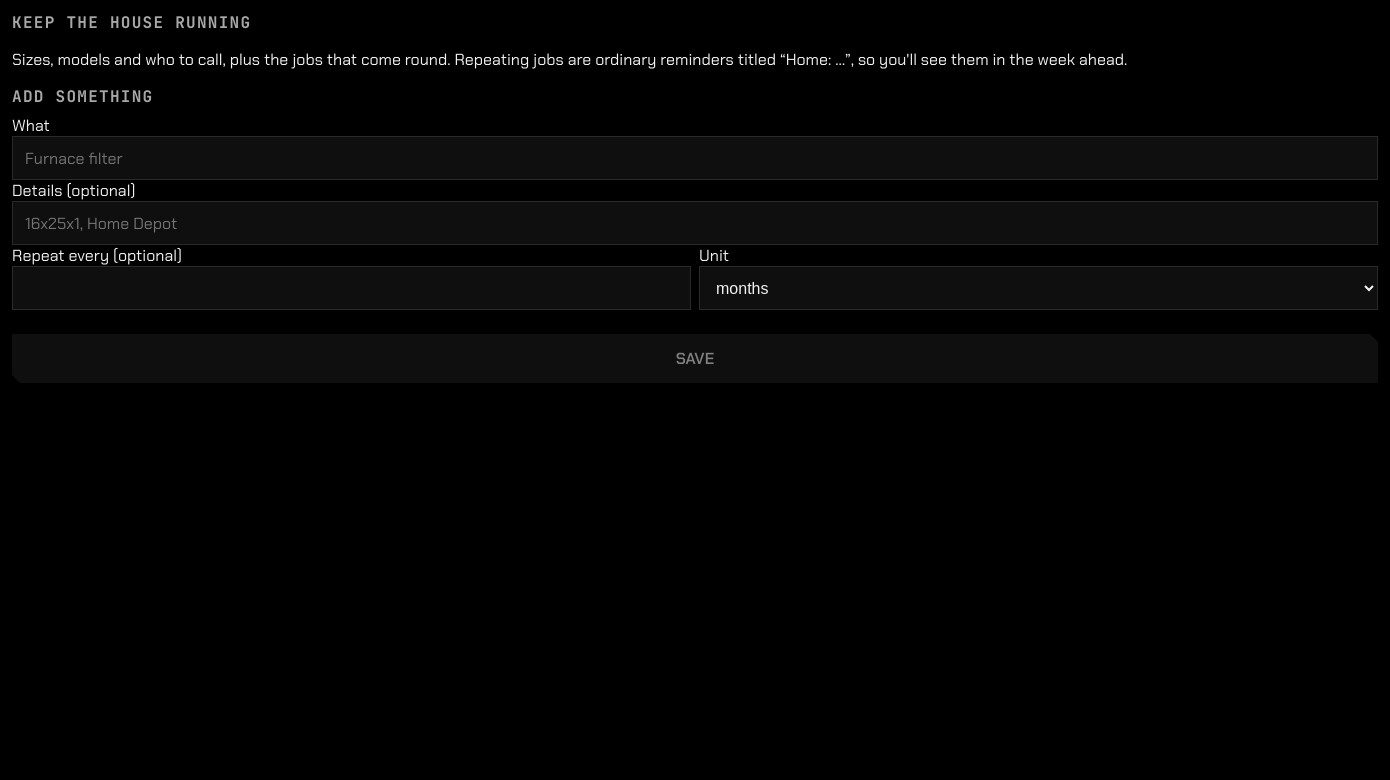
Test: keeps a plain fact without a repeat
Type "Plumber" into the field labelled "What" at (695, 158), box top-left (12, 136), bottom-right (1378, 180)
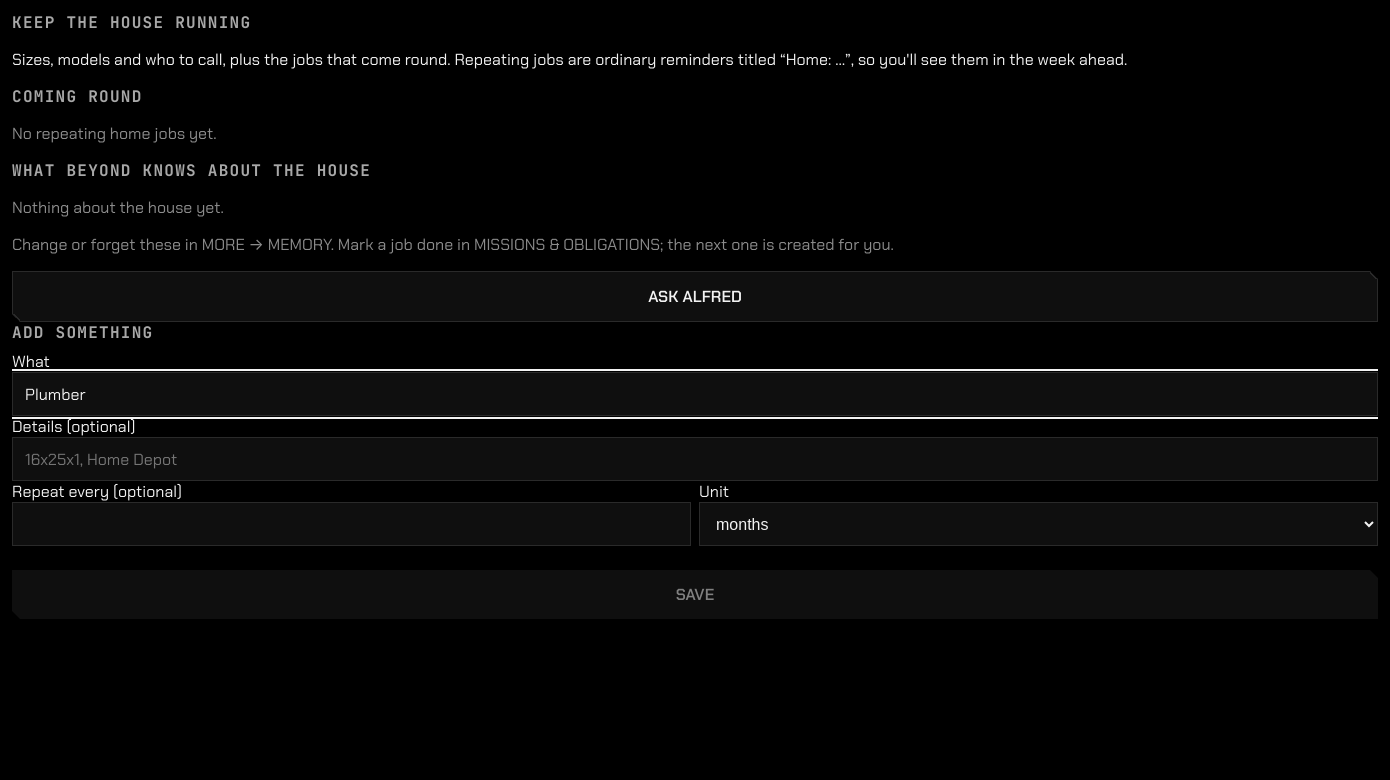
Type "Ace Plumbing" into the field labelled "Details (optional)" at (695, 459), box top-left (12, 437), bottom-right (1378, 481)
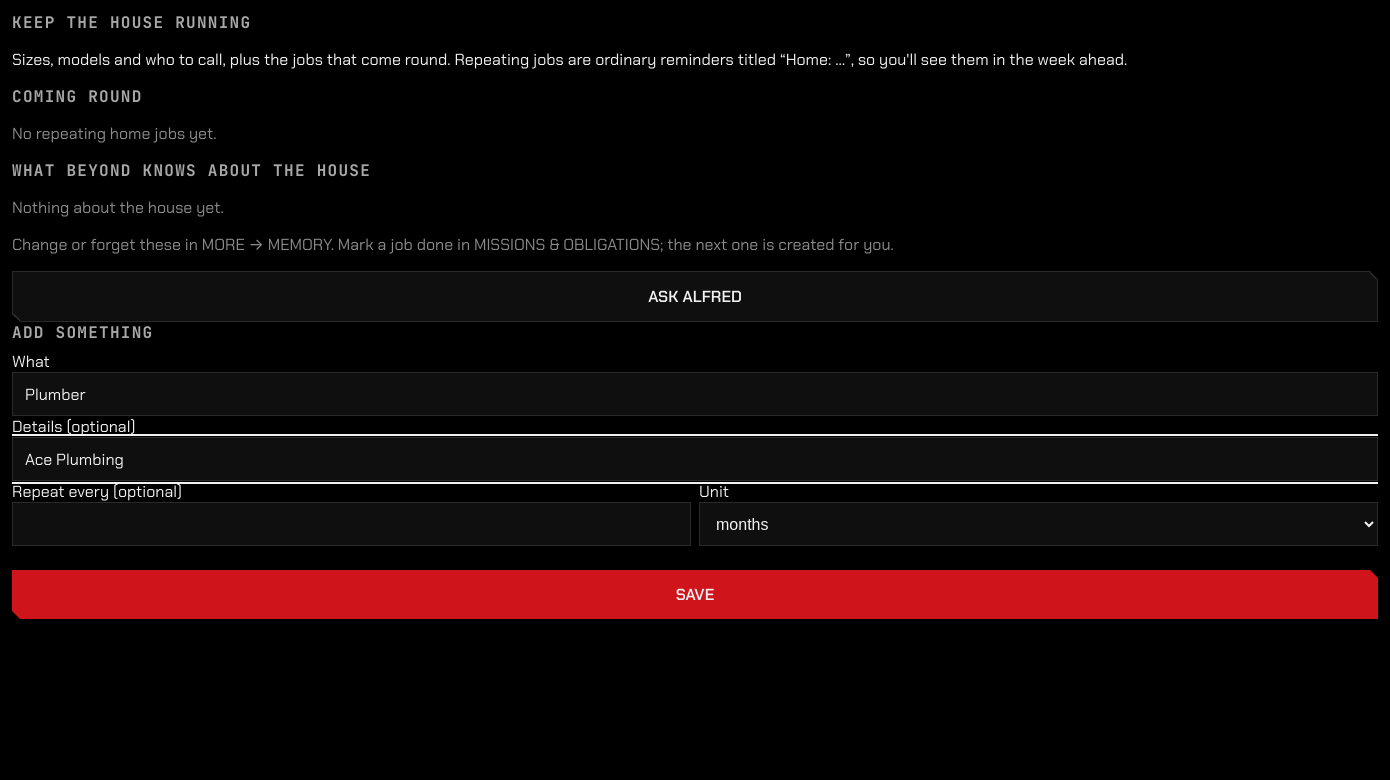
Click the button "SAVE" at (695, 594), box top-left (12, 570), bottom-right (1378, 619)
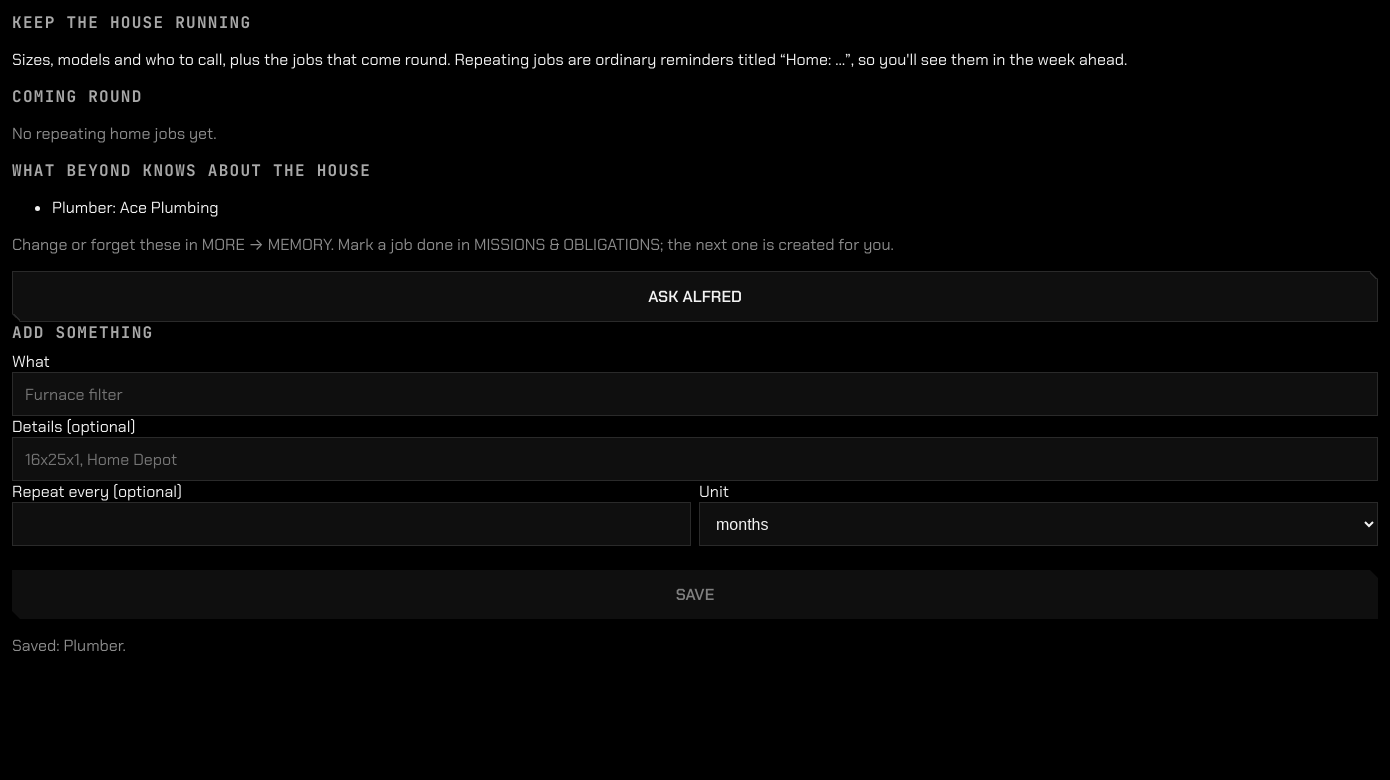
Expected: the list item "Plumber: Ace Plumbing" is shown, top-left (52, 197), bottom-right (218, 218)
